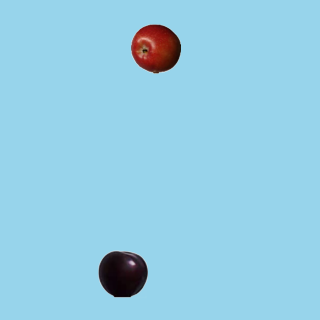Apple Braeburn: (130, 23, 180, 73)
Cherry Wax Black: (97, 248, 147, 298)
